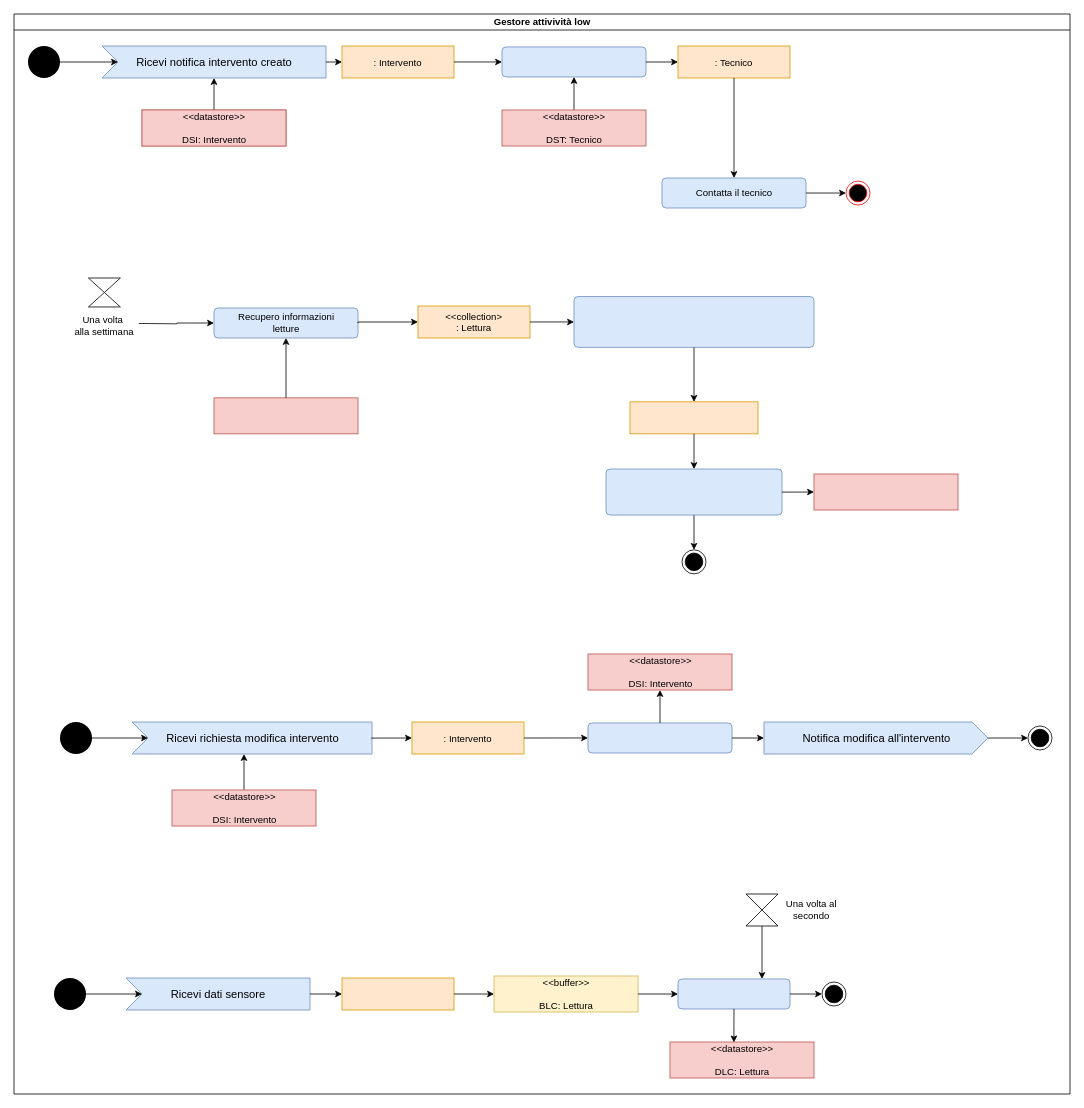
Image size: 1084x1108. Some labels were removed from this diagram. Here are the shapes that lost their labels. From the top down, the centre of each, then its label:
the point at 573,61: Recupero delle informazioni sul tecnico
the point at 693,321: Analisi dei dati per nuova politica di distribuzione
the point at 285,415: <<datastore>> DSLC: Lettura
the point at 693,417: : Politica di distribuzione
the point at 693,491: Salvataggio politica di distribuzione
the point at 885,491: <<datastore>> DSPD: Politica di distribuzione
the point at 659,737: Modifica intervento
the point at 397,993: : Lettura
the point at 733,993: Salvataggio dato
